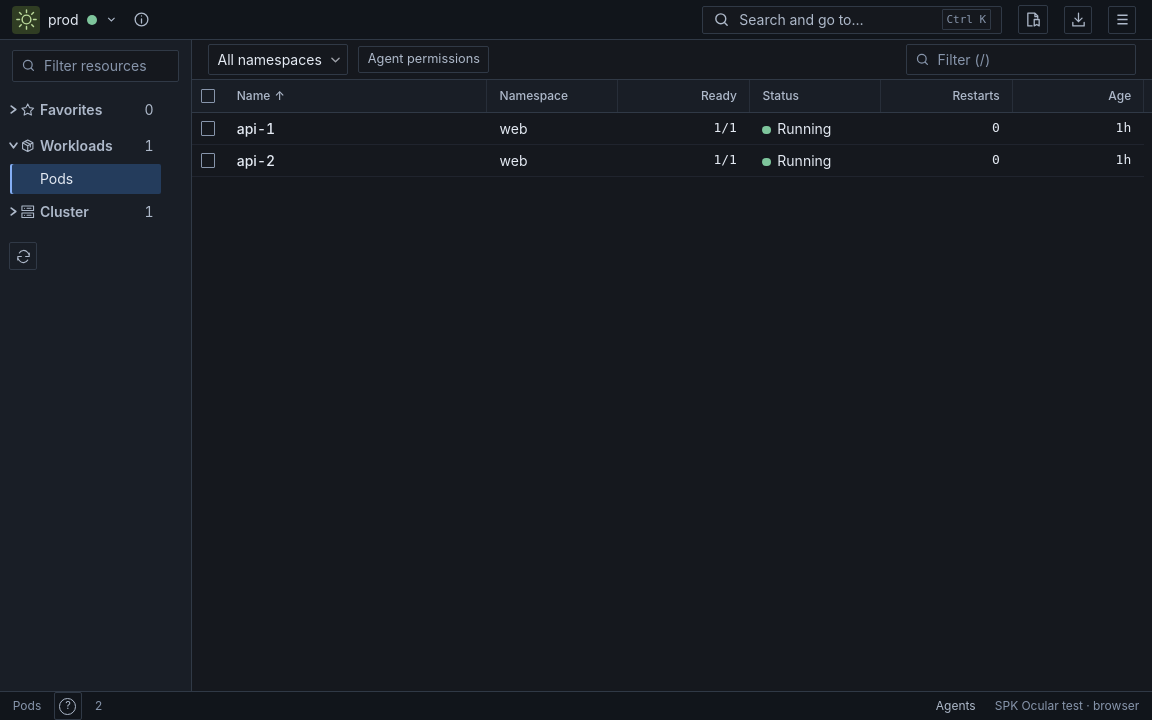
actions in the workspace › a done action says so in the status bar
This screenshot has width=1152, height=720.
Right-click the text "api-2" at point(256, 160), box [237,152,275,169]
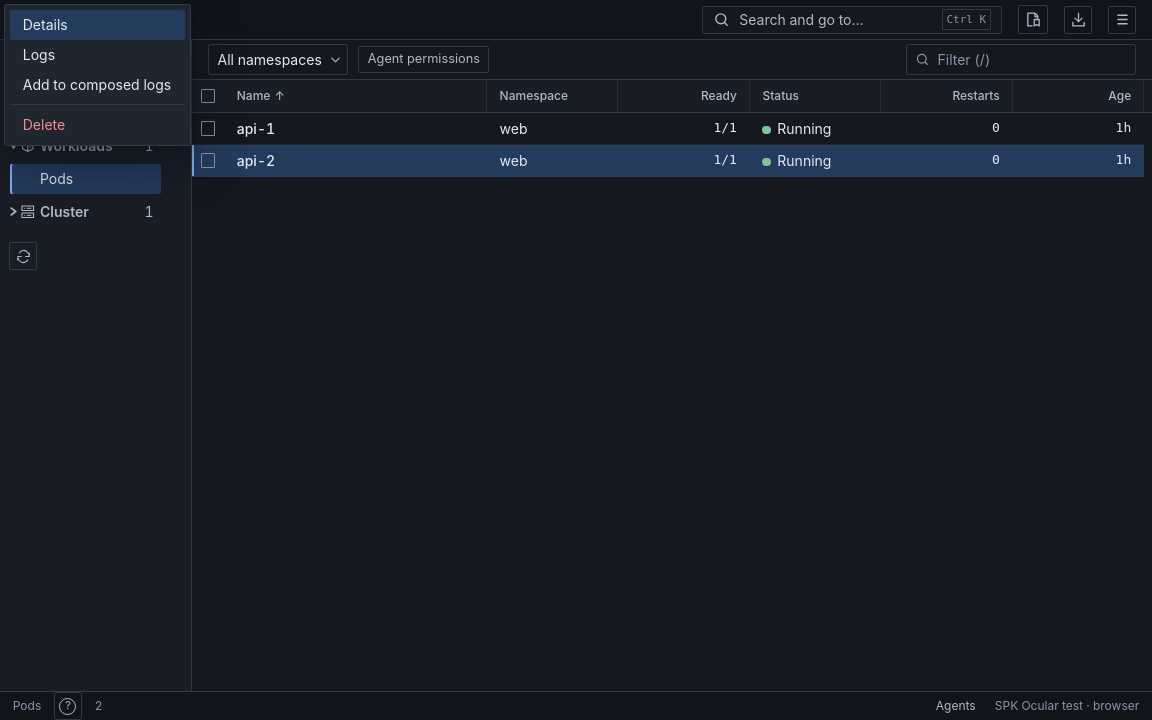
Click the menu item "Delete". click: point(98, 124)
box: [10,110,185,140]
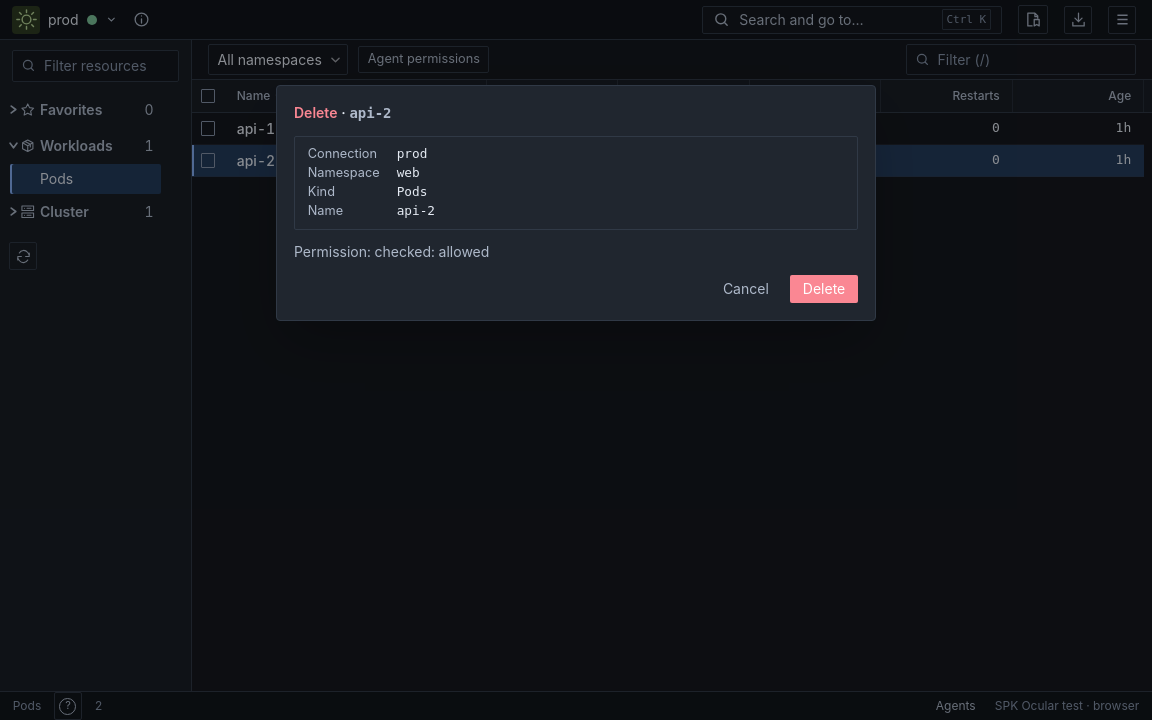
Click the button "Delete". click: point(824, 289)
box: [790,275,858,303]
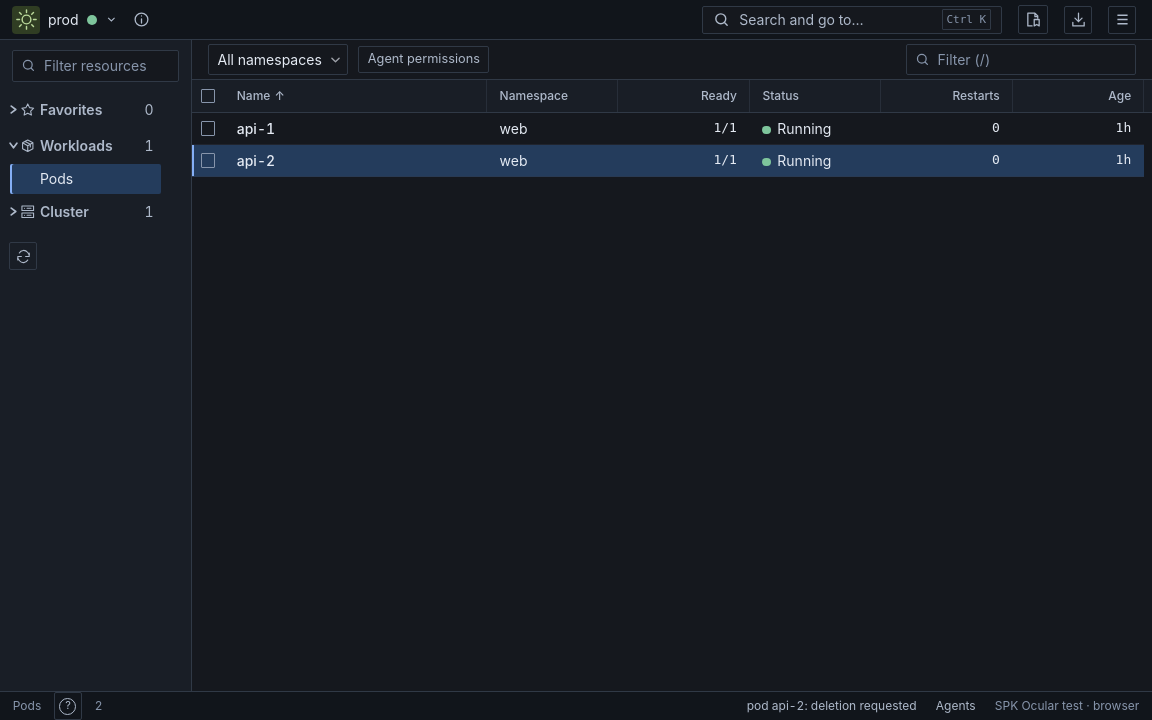
Now the message reads "pod api-2: deletion requested", box [747,698,917,713]
